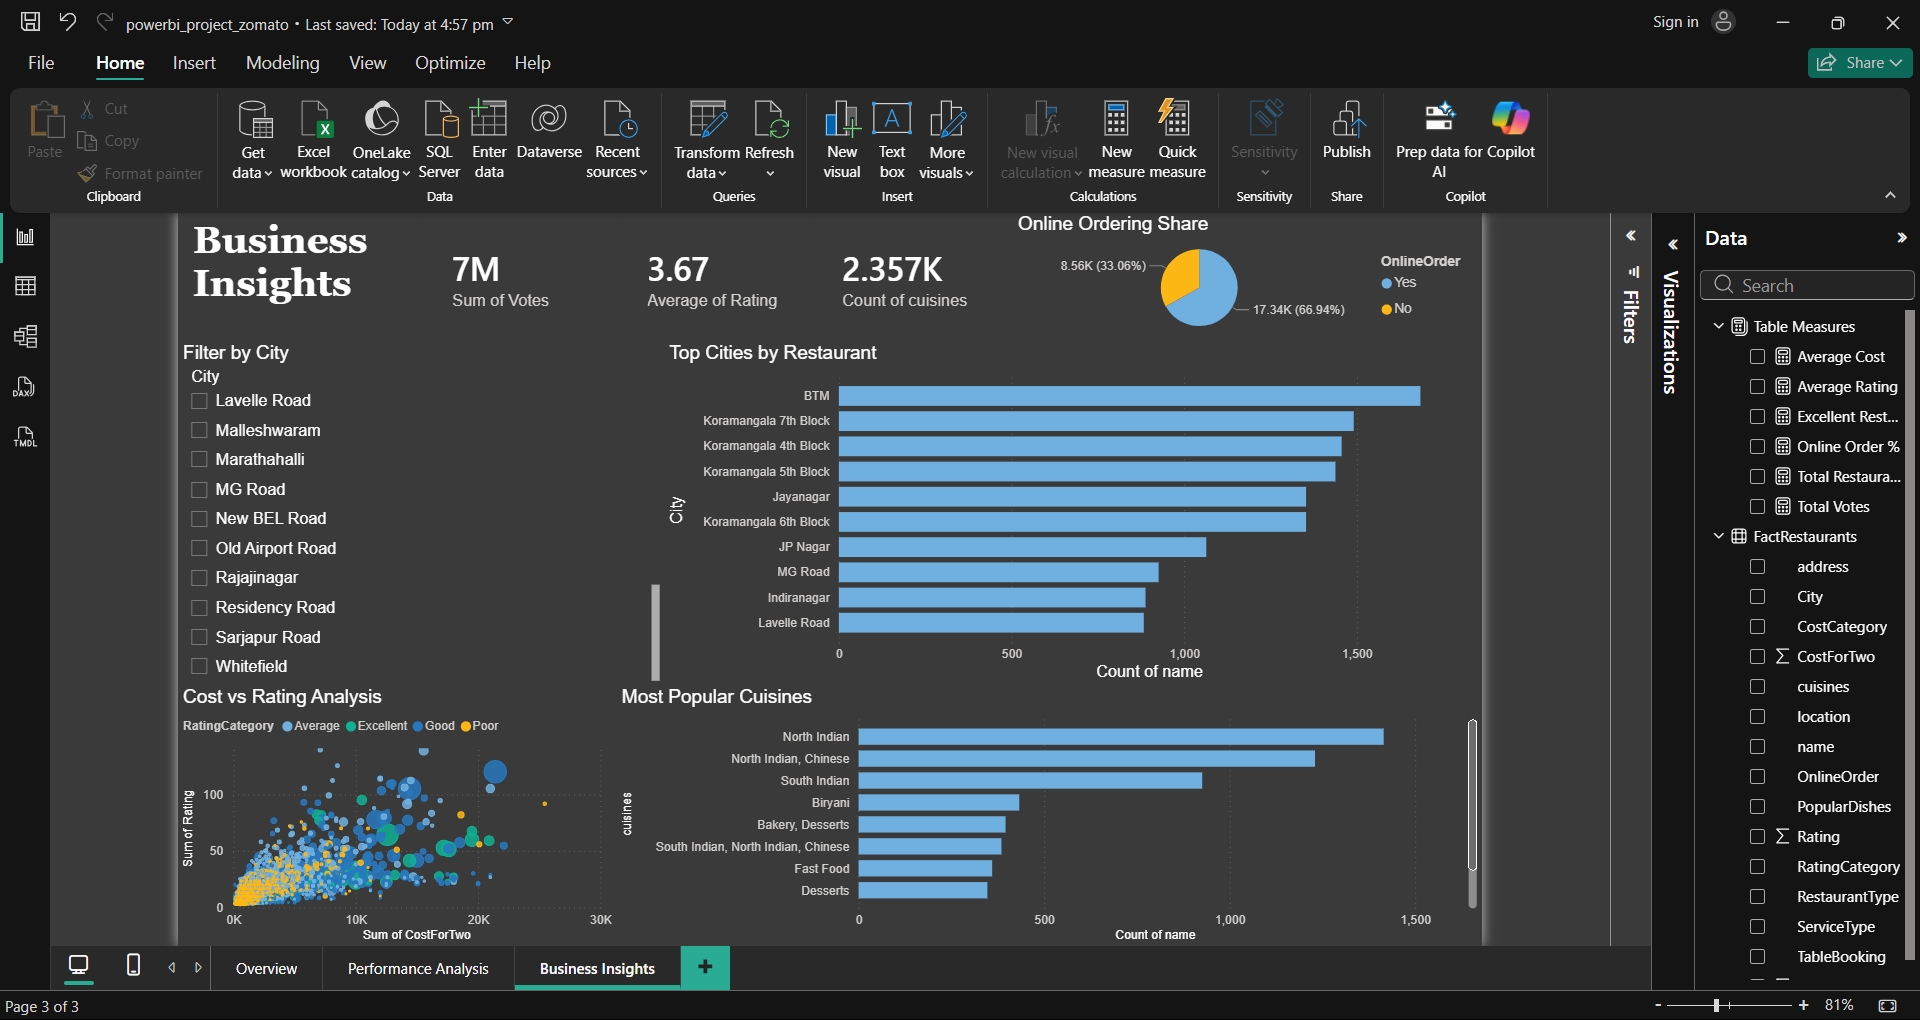

The page's visual inventory and layout, read from the dashboard file:
{"tool":"powerbi","page":{"name":"Business Insights","canvas":[1280,720],"ordinal":2},"visuals":[{"type":"textbox","box":[9.6,0,279.9,126.2],"z":0},{"type":"slicer","title":"Filter by City","fields":{"Values":["FactRestaurants.City"]},"box":[0,126.2,477.5,337.6],"z":1000},{"type":"clusteredBarChart","title":"Most Popular Cuisines","fields":{"Category":["FactRestaurants.cuisines"],"Y":["CountNonNull(FactRestaurants.name)"]},"box":[430.9,463.8,849.4,256.6],"z":2000},{"type":"scatterChart","title":"Cost vs Rating Analysis","fields":{"X":["Sum(FactRestaurants.CostForTwo)"],"Y":["Sum(FactRestaurants.Rating)"],"Size":["Sum(FactRestaurants.Votes)"],"Series":["FactRestaurants.RatingCategory"],"Category":["FactRestaurants.name"]},"box":[0,463.8,430.9,256.6],"z":3000},{"type":"barChart","title":"Top Cities by Restaurant","fields":{"Category":["FactRestaurants.City"],"Y":["CountNonNull(FactRestaurants.name)"]},"box":[477.5,126.2,802.7,337.6],"z":4000},{"type":"cardVisual","fields":{"Data":["Sum(FactRestaurants.Votes)"]},"box":[238.8,0,192.1,126.2],"z":5000},{"type":"cardVisual","fields":{"Data":["Avg(FactRestaurants.Rating)"]},"box":[430.9,0,208.6,126.2],"z":6000},{"type":"cardVisual","fields":{"Data":["Count(FactRestaurants.cuisines)"]},"box":[621.6,0,197.6,126.2],"z":7000},{"type":"pieChart","title":"Online Ordering Share","fields":{"Category":["FactRestaurants.OnlineOrder"],"Y":["CountNonNull(FactRestaurants.name)"]},"box":[819.2,0,461.1,126.2],"z":8000}]}

Visuals, with their boxes on the page's 1280x720 design canvas (x1, y1, x2, y2). These are canvas units, not pixel positions in the 1920x1020 screenshot, which may show the page scaled, cropped or inside an application window:
textbox: <region>10, 0, 290, 126</region>
"Filter by City" slicer: <region>0, 126, 478, 464</region>
"Most Popular Cuisines" clusteredBarChart: <region>431, 464, 1280, 720</region>
"Cost vs Rating Analysis" scatterChart: <region>0, 464, 431, 720</region>
"Top Cities by Restaurant" barChart: <region>478, 126, 1280, 464</region>
cardVisual - Sum(FactRestaurants.Votes): <region>239, 0, 431, 126</region>
cardVisual - Avg(FactRestaurants.Rating): <region>431, 0, 640, 126</region>
cardVisual - Count(FactRestaurants.cuisines): <region>622, 0, 819, 126</region>
"Online Ordering Share" pieChart: <region>819, 0, 1280, 126</region>
